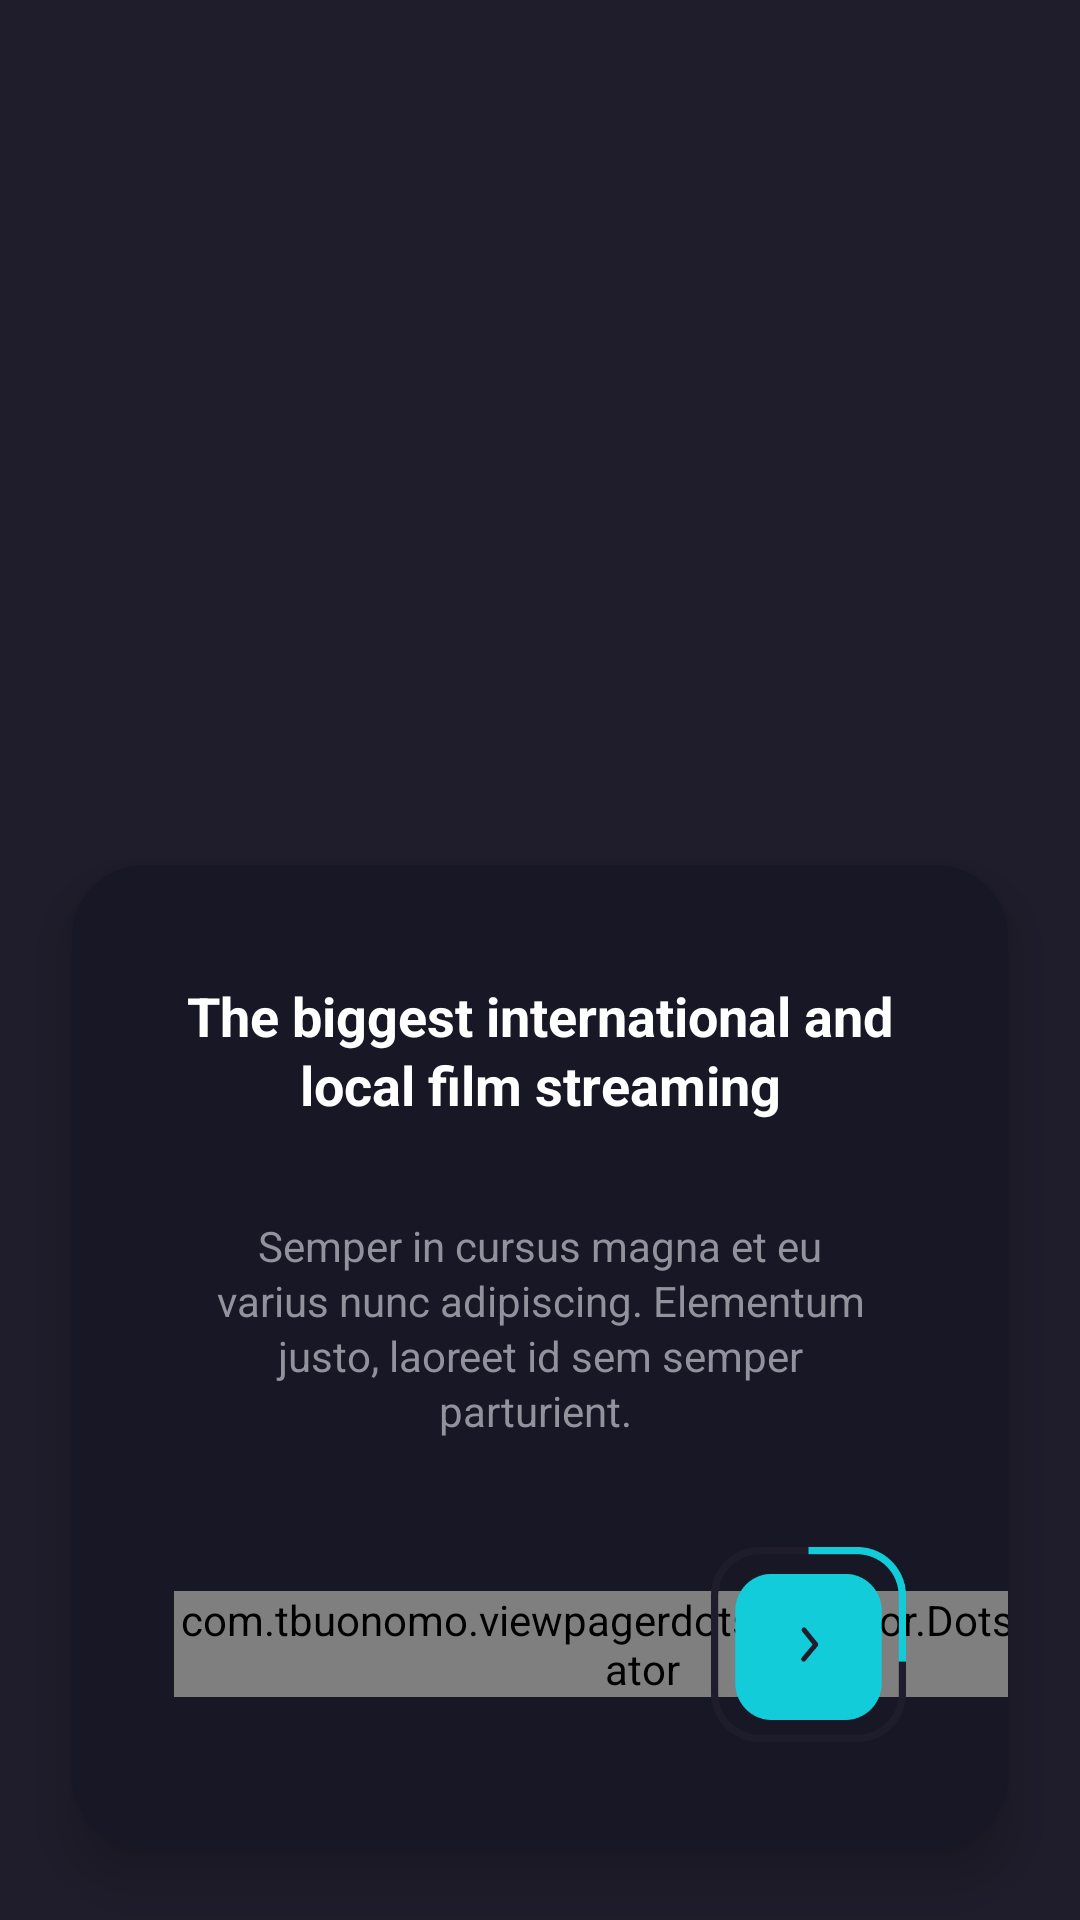

Point at icon controls on the screen. Image size 1080x1920, points as (x=x, y=y).
next: (x=808, y=1633)
